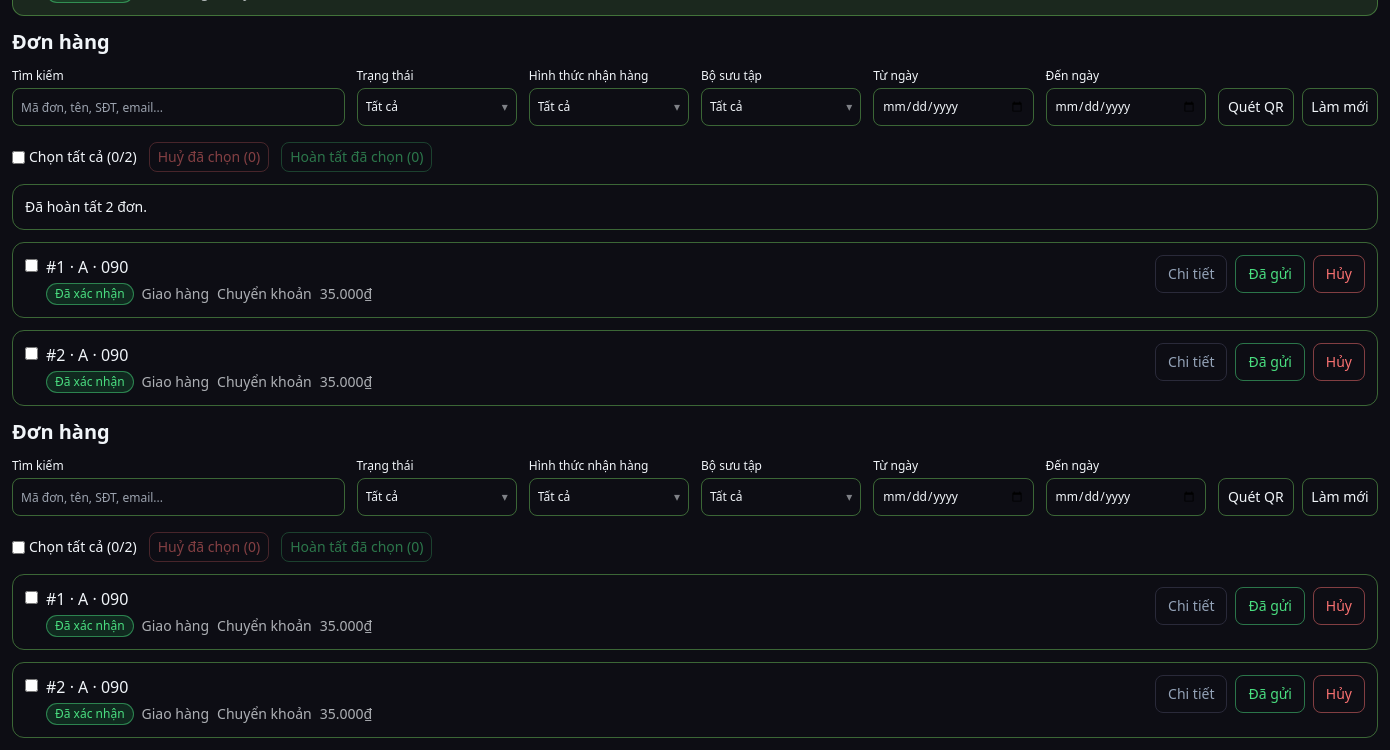
Scenario: AdminOrders - bulk complete (Event Pickup Verification plan) › shows the partial-success complete wording when some orders fail
(page scrolled)
Click the 2nd checkbox named "Chọn đơn #1" at [32, 598], box [25,591,38,604]
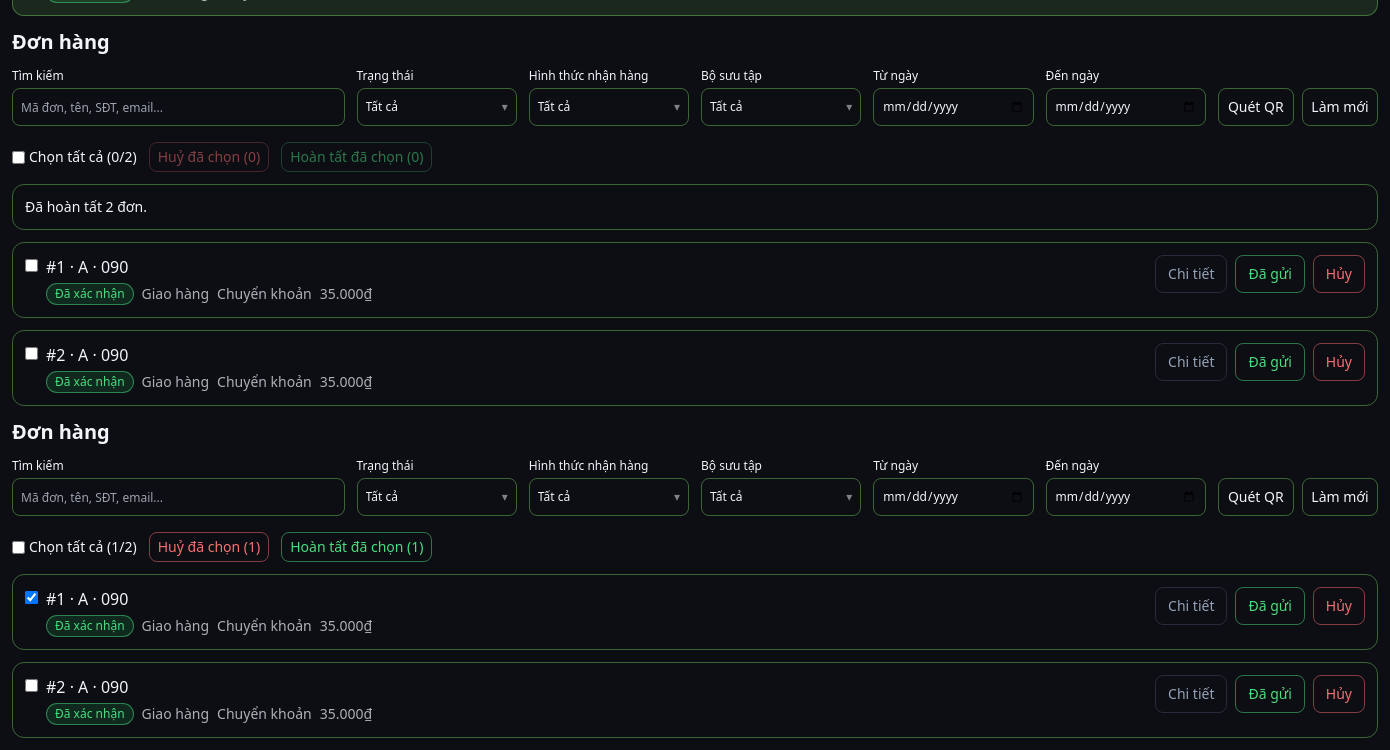
Click the 2nd checkbox named "Chọn đơn #2" at [32, 686], box [25,679,38,692]
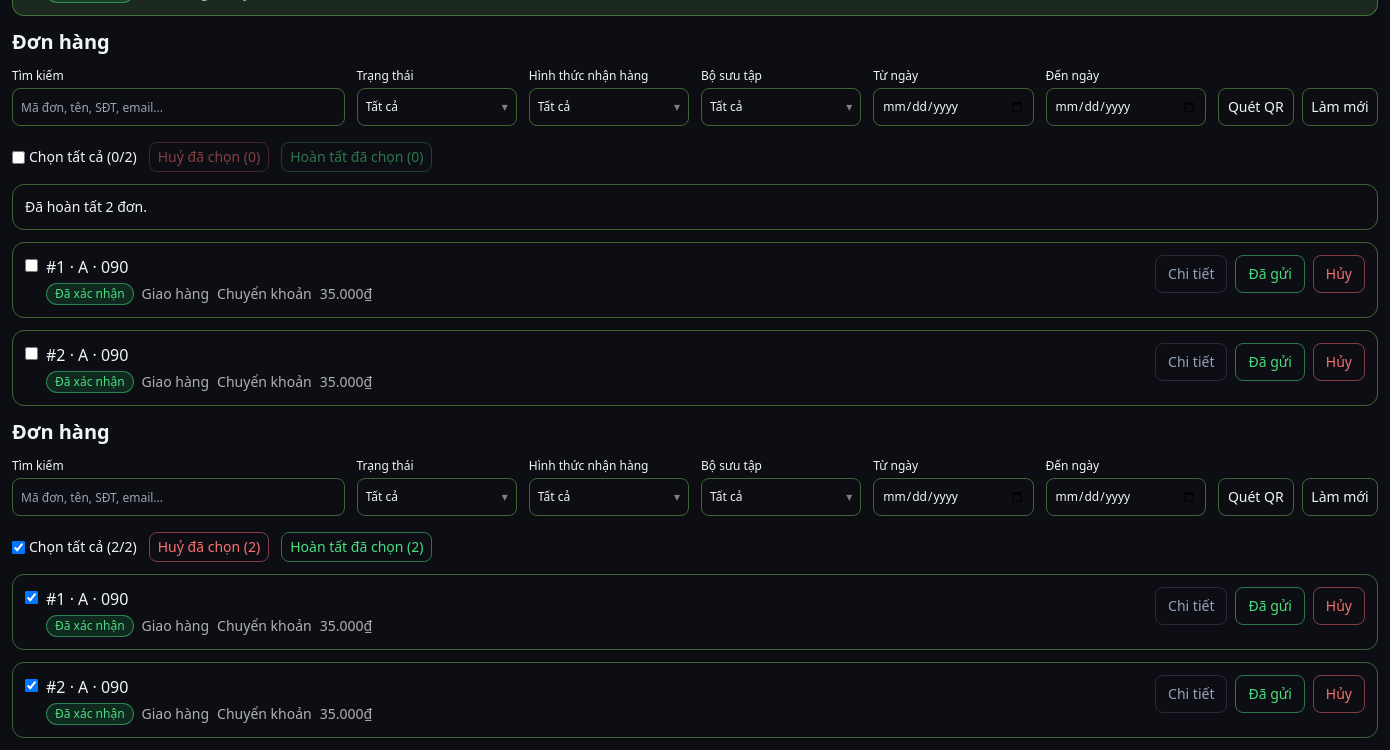
Click the button "Hoàn tất đã chọn (2)" at [357, 547], box [281,532,432,562]
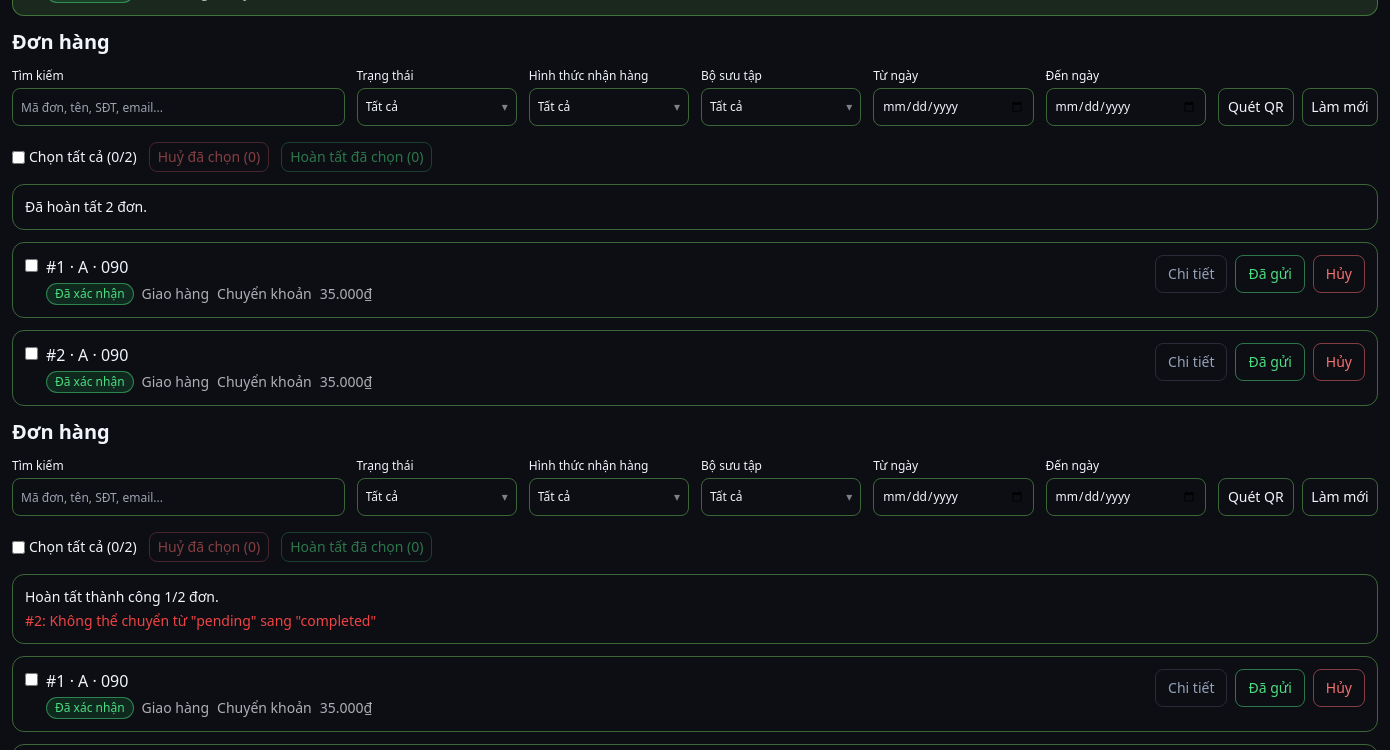
Check: the text "Hoàn tất thành công 1/2 đơn" is shown, box [25,587,219,606]
